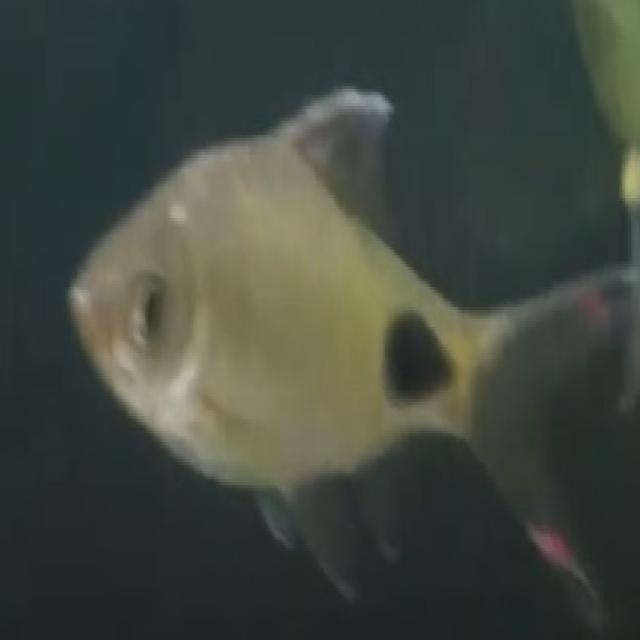Black-Spotted-Barb: (46, 18, 632, 591)
